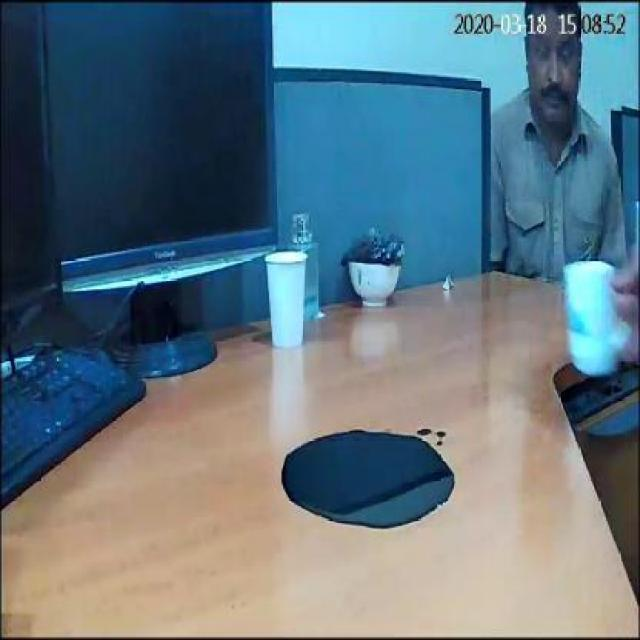spill: (280, 426, 454, 532)
